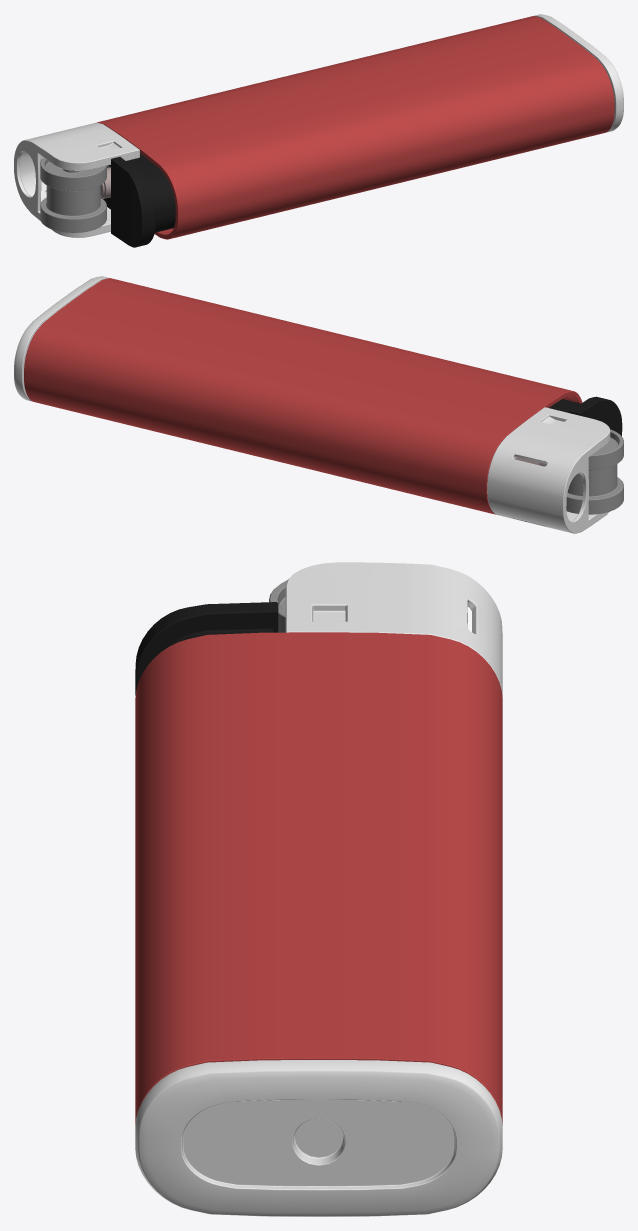
The model's file is accendino.fbx.
3 views of the same model, one above another, from view 1: azimuth 30°, elevation 25°; view 2: azimuth 150°, elevation 25°; view 3: azimuth 270°, elevation 25° (orthographic). The views are drawn at different scales.
Visible parts, largest first — view 1: Body, Metal, Trigger, Wheel; view 2: Body, Metal, Wheel, Trigger; view 3: Body, Metal, Trigger.
Part boxes in pixels (x1,y1,x2,y2): Body: (97, 14, 623, 239); Metal: (14, 122, 139, 237); Trigger: (103, 153, 175, 247); Wheel: (40, 157, 106, 232); Body: (14, 276, 582, 514); Metal: (487, 407, 610, 533); Wheel: (566, 429, 623, 514); Trigger: (549, 396, 622, 435); Body: (135, 632, 502, 1216); Metal: (285, 562, 502, 697); Trigger: (135, 602, 278, 695).
Bounding box in the file's own units: 7.35 × 1 × 2.2.
